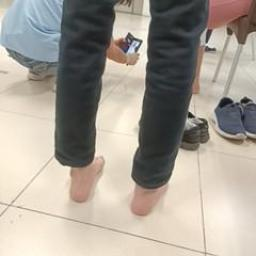Back View -Both Feet-: (41, 120, 193, 230)
